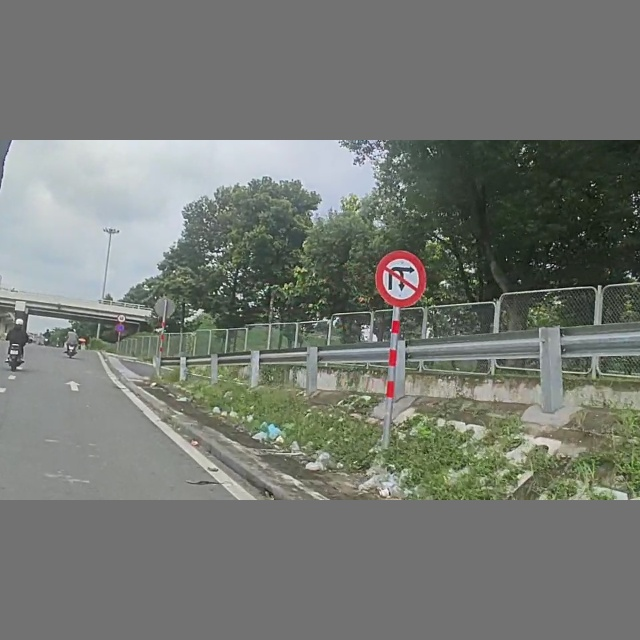P.124d: (375, 249, 427, 308)
P.127*40: (117, 313, 126, 323)
P.130: (115, 323, 125, 332)
